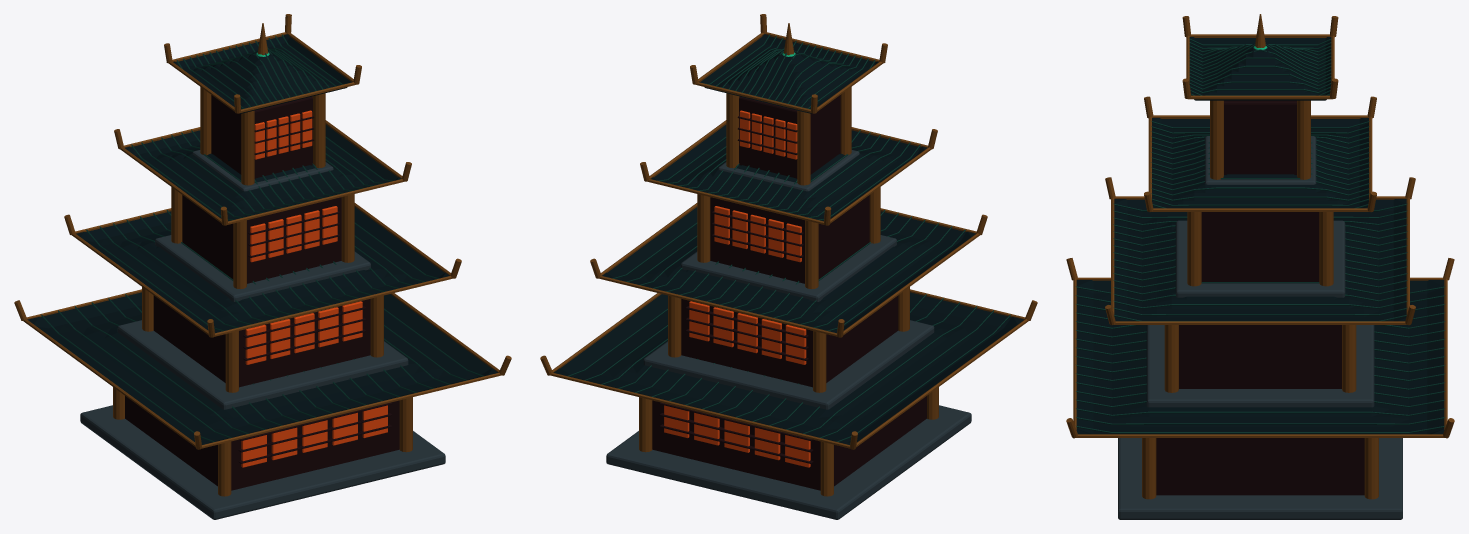
File: SM_JA_Pagoda.fbx
3 views of the same model, side by side, from view 1: azimuth 30°, elevation 25°; view 2: azimuth 150°, elevation 25°; view 3: azimuth 270°, elevation 25° (orthographic). The views are drawn at different scales.
Parts seen in each view (by area): view 1: SM_JA_Pagoda; view 2: SM_JA_Pagoda; view 3: SM_JA_Pagoda.
Part boxes in pixels (x1,y1,x2,y2): SM_JA_Pagoda: [14, 14, 511, 519]; SM_JA_Pagoda: [540, 14, 1037, 519]; SM_JA_Pagoda: [1066, 14, 1454, 519].
Size of the model in its own units: 8.71 by 8.71 by 11.05.
